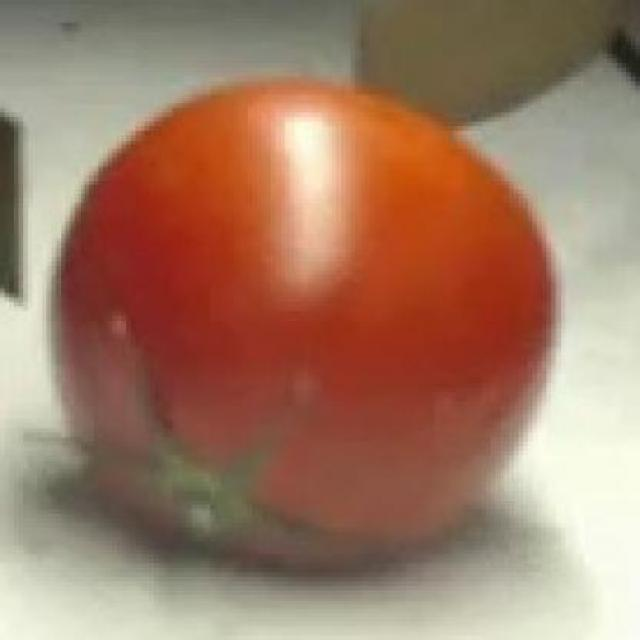tomato: (52, 82, 558, 570)
